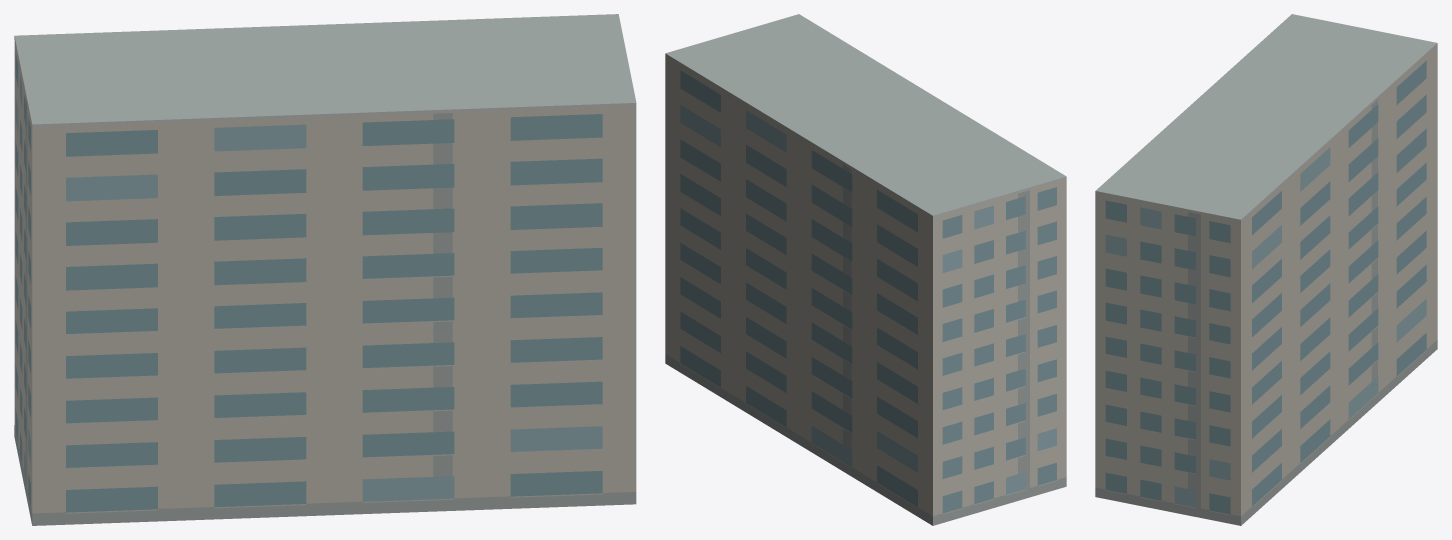
The model's file is residential-e1a8b050-62fe-4789-9ce1-3f0339a23118.glb.
The picture shows the model from 3 angles, left to right: view 1: azimuth 30°, elevation 25°; view 2: azimuth 150°, elevation 25°; view 3: azimuth 270°, elevation 25°; orthographic projection. The views are drawn at different scales.
Visible parts, largest first — view 1: residential-e1a8b050-62fe-4789-9ce1-3f0339a23118.tmp; view 2: residential-e1a8b050-62fe-4789-9ce1-3f0339a23118.tmp; view 3: residential-e1a8b050-62fe-4789-9ce1-3f0339a23118.tmp.
Part boxes in pixels (left/top/right/bottom): residential-e1a8b050-62fe-4789-9ce1-3f0339a23118.tmp: left=14, top=14, right=636, bottom=525; residential-e1a8b050-62fe-4789-9ce1-3f0339a23118.tmp: left=665, top=14, right=1066, bottom=525; residential-e1a8b050-62fe-4789-9ce1-3f0339a23118.tmp: left=1095, top=14, right=1437, bottom=525.
Bounding box in the file's own units: 39.58 × 27.45 × 27.82.
